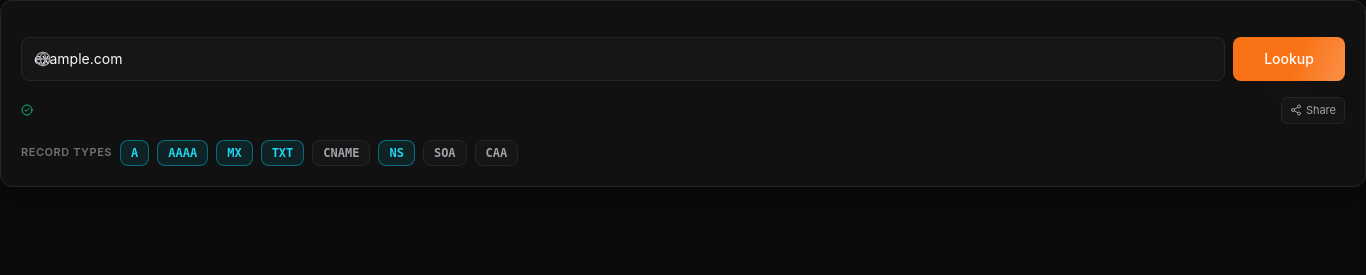
it: target-guard integration — DNS/Port/SSL forms › DNS lookup blocks 'localhost' with the localhost message
This screenshot has width=1366, height=275.
Type "localhost" into the field named "enter domain". click: (623, 59)
box: [21, 37, 1225, 81]
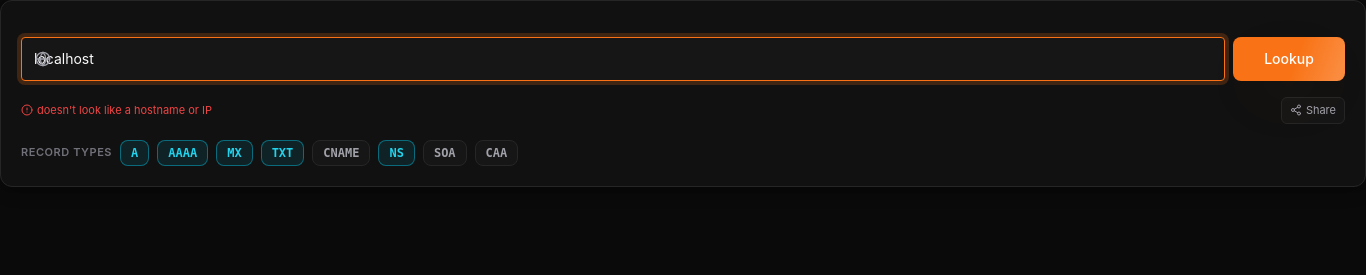
Click the button "Lookup". click: click(1289, 59)
box: [1233, 37, 1345, 81]
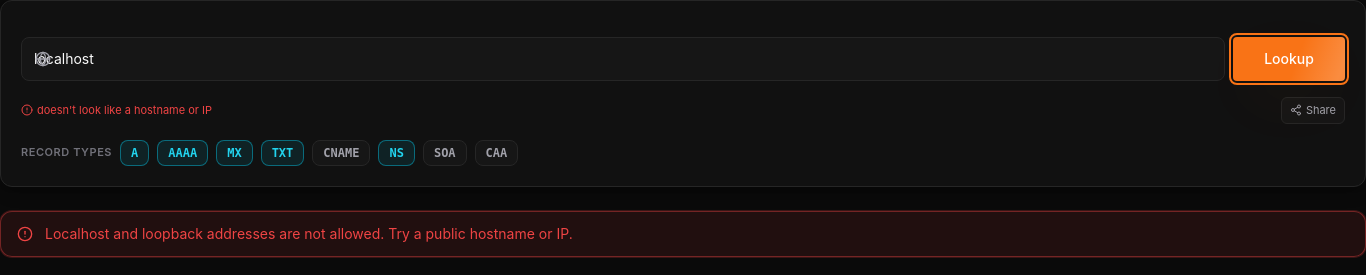
Expected: the message "Localhost and loopback addresses are not allowed. Try a public hostname or IP." is shown, [0, 210, 1365, 256]
